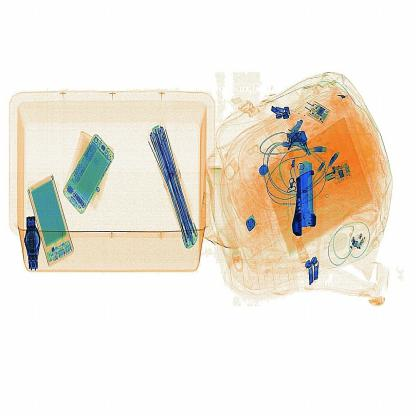pliers: (286, 155, 319, 241)
